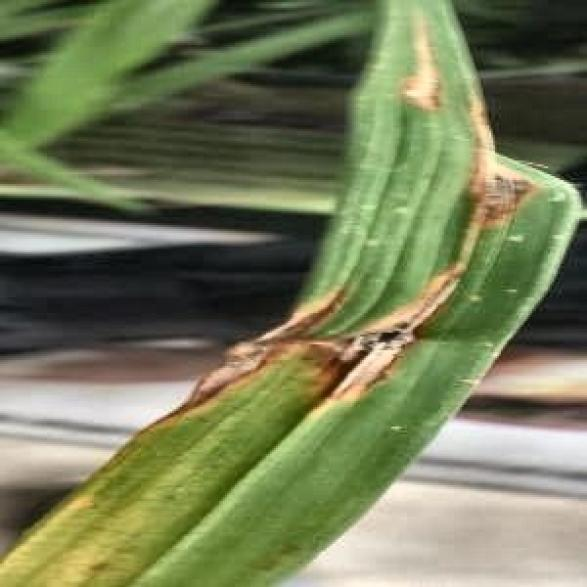Leaf_smut: (148, 239, 476, 425)
